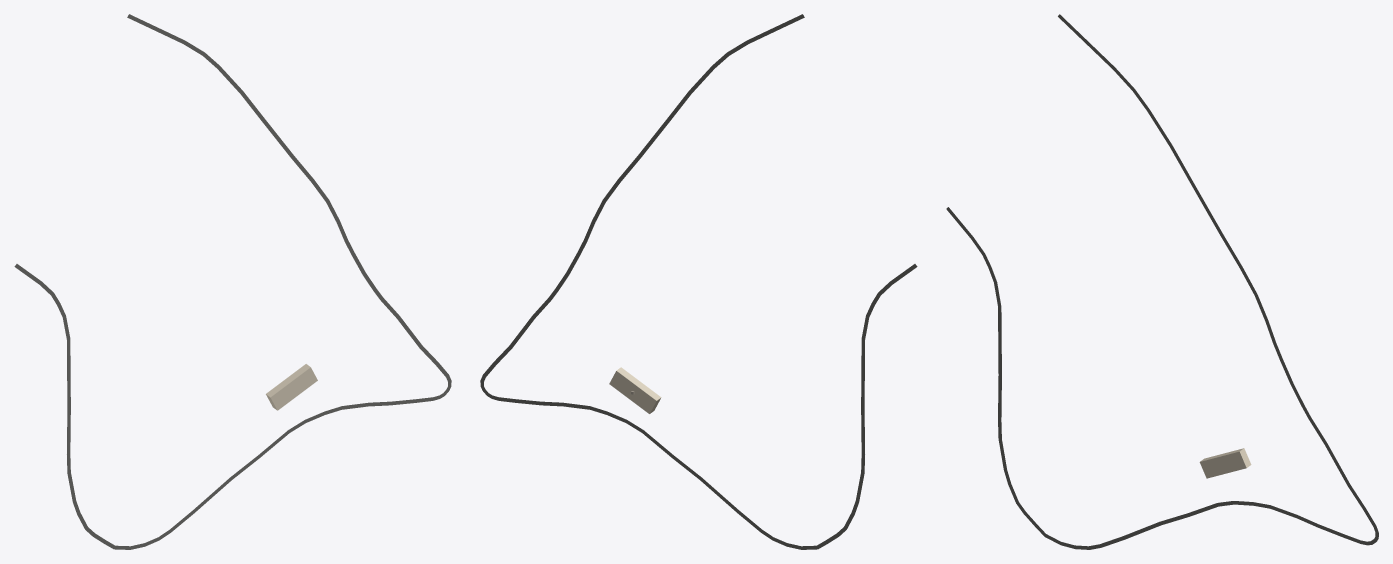
File: historic-palestine-15_32_3569_3269.glb
3 views of the same model, side by side, from view 1: azimuth 30°, elevation 25°; view 2: azimuth 150°, elevation 25°; view 3: azimuth 330°, elevation 25° (orthographic).
Visible parts, largest first — view 1: Road, Building_; view 2: Road, Building_; view 3: Road, Building_.
Part boxes in pixels (x1,y1,x2,y2): Road: [14, 14, 451, 549]; Building_: [266, 364, 317, 410]; Road: [480, 14, 917, 549]; Building_: [609, 367, 661, 413]; Road: [946, 14, 1378, 549]; Building_: [1199, 448, 1251, 478].
Size of the model in its own units: 396 by 464 by 8.7.
